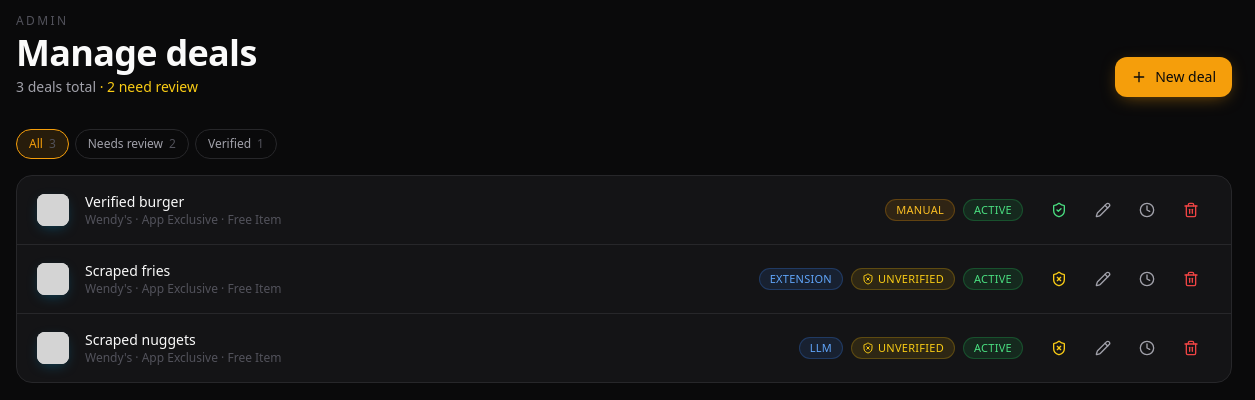
Test: AdminDealsPage — review queue › narrows to only unverified deals under 'Needs review'
The image size is (1255, 400).
Click the button "Needs review2" at (132, 144), box [75,129,189,159]
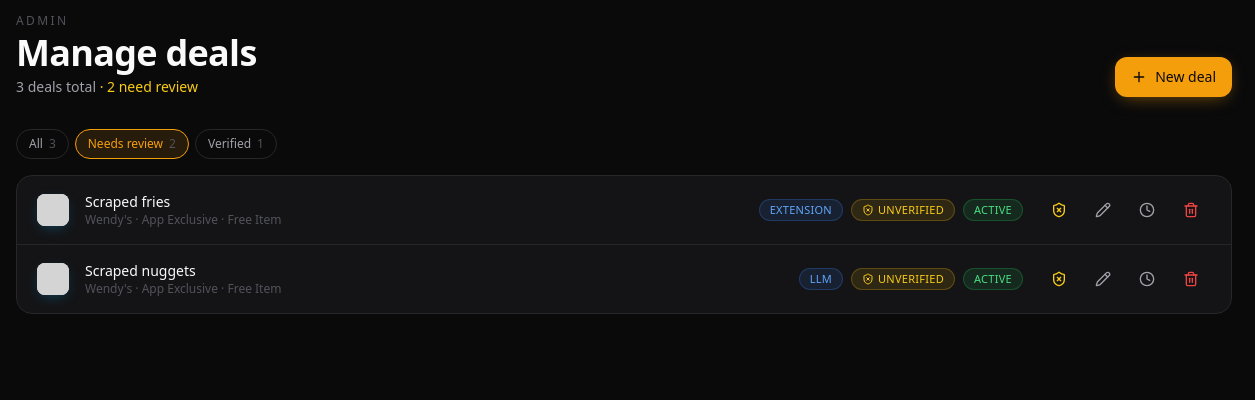
Check: the text "Scraped fries" is shown, box [85,192,170,211]
Check: the text "Verified burger" is gone
